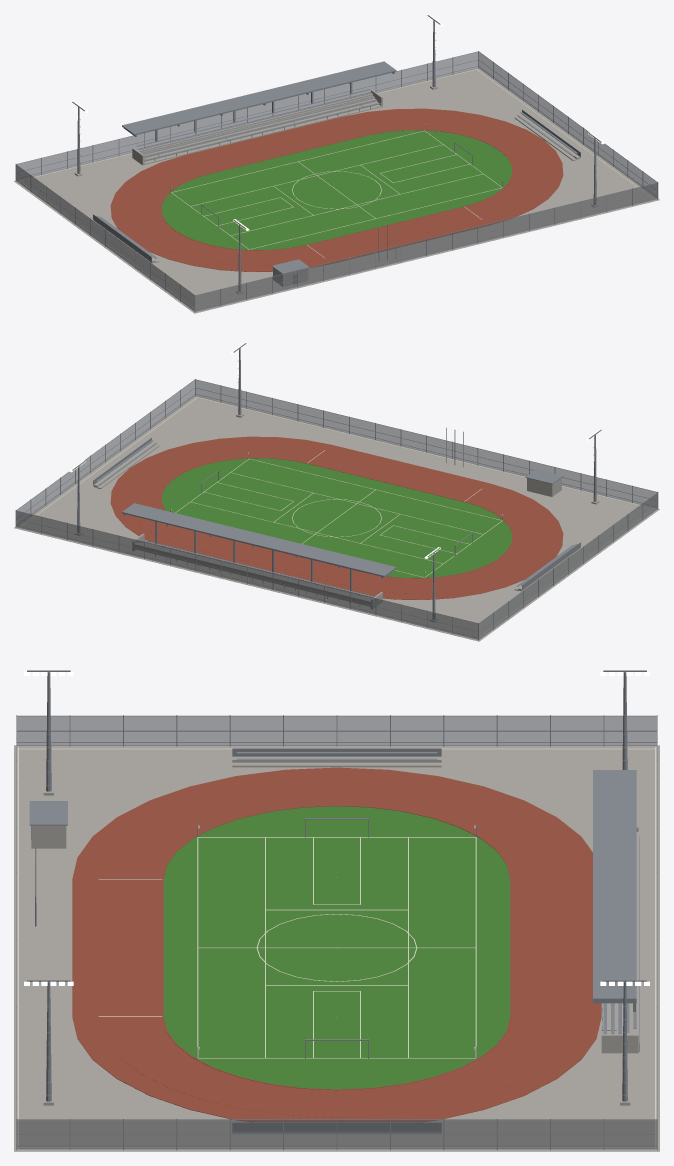
Rendered from sports_field.glb.
3 views of the same model, one above another, from view 1: azimuth 30°, elevation 25°; view 2: azimuth 150°, elevation 25°; view 3: azimuth 270°, elevation 25° (orthographic). The views are drawn at different scales.
Parts seen in each view (by area): view 1: Stadium_Concrete, Stadium_Turf, Stadium_Track, Stadium_Fence, Stadium_Steel, Stadium_TrackLine; view 2: Stadium_Concrete, Stadium_Turf, Stadium_Track, Stadium_Fence, Stadium_Steel, Stadium_TrackLine; view 3: Stadium_Turf, Stadium_Concrete, Stadium_Track, Stadium_Fence, Stadium_Steel, Stadium_TrackLine, Stadium_Floodlight.
Part boxes in pixels (left/top/right/bottom): Stadium_Concrete: left=14, top=68, right=659, bottom=313; Stadium_Turf: left=161, top=130, right=512, bottom=250; Stadium_Track: left=110, top=108, right=563, bottom=271; Stadium_Fence: left=16, top=52, right=657, bottom=311; Stadium_Steel: left=15, top=15, right=658, bottom=312; Stadium_TrackLine: left=20, top=69, right=655, bottom=311; Stadium_Concrete: left=14, top=396, right=659, bottom=641; Stadium_Turf: left=161, top=458, right=512, bottom=578; Stadium_Track: left=110, top=436, right=563, bottom=599; Stadium_Fence: left=16, top=380, right=657, bottom=639; Stadium_Steel: left=15, top=343, right=658, bottom=640; Stadium_TrackLine: left=18, top=397, right=653, bottom=639; Stadium_Turf: left=163, top=806, right=510, bottom=1089; Stadium_Concrete: left=14, top=745, right=659, bottom=1151; Stadium_Track: left=72, top=767, right=601, bottom=1121; Stadium_Fence: left=17, top=716, right=656, bottom=1149; Stadium_Steel: left=16, top=670, right=657, bottom=1150; Stadium_TrackLine: left=17, top=747, right=656, bottom=1148; Stadium_Floodlight: left=24, top=671, right=649, bottom=985.
Size of the model in its own units: 11 by 1.56 by 7.4.
